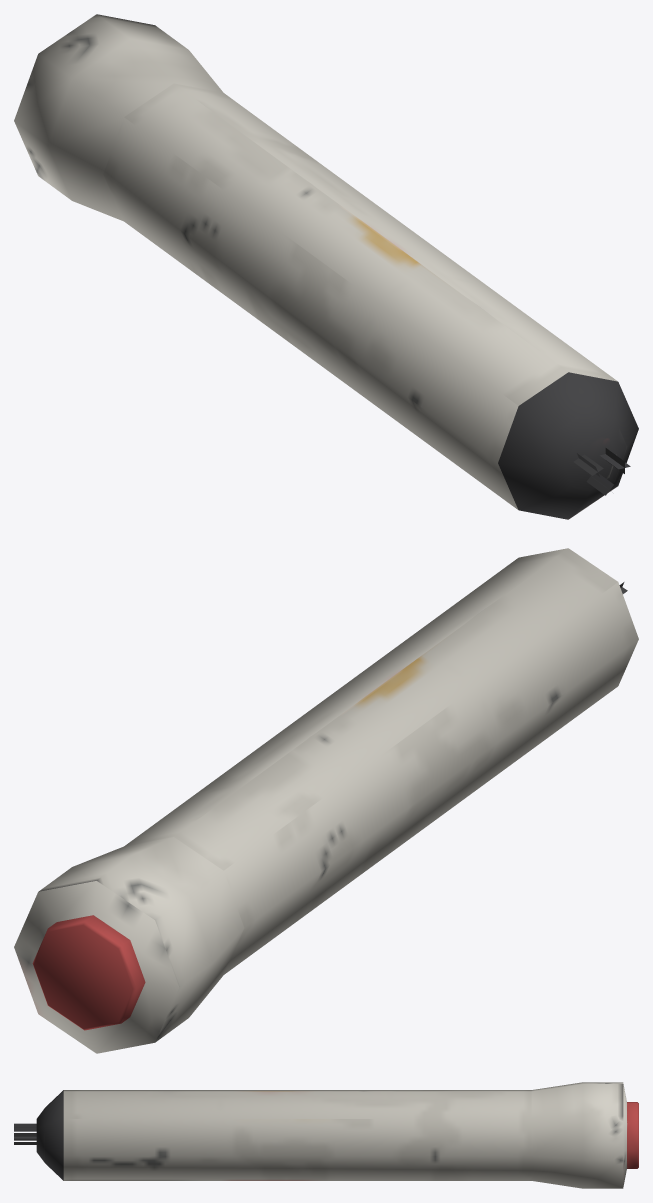
Rendered from RingesModel_W.fbx.
3 views of the same model, one above another, from view 1: azimuth 30°, elevation 25°; view 2: azimuth 150°, elevation 25°; view 3: azimuth 270°, elevation 25° (orthographic). The views are drawn at different scales.
Visible parts, largest first — view 1: Cylinder; view 2: Cylinder; view 3: Cylinder.
Part boxes in pixels (<box>): Cylinder: <box>14,14,638,519</box>; Cylinder: <box>14,548,638,1053</box>; Cylinder: <box>14,1082,638,1188</box>.
Size of the model in its own units: 0.5099 by 0.5099 by 2.81.
